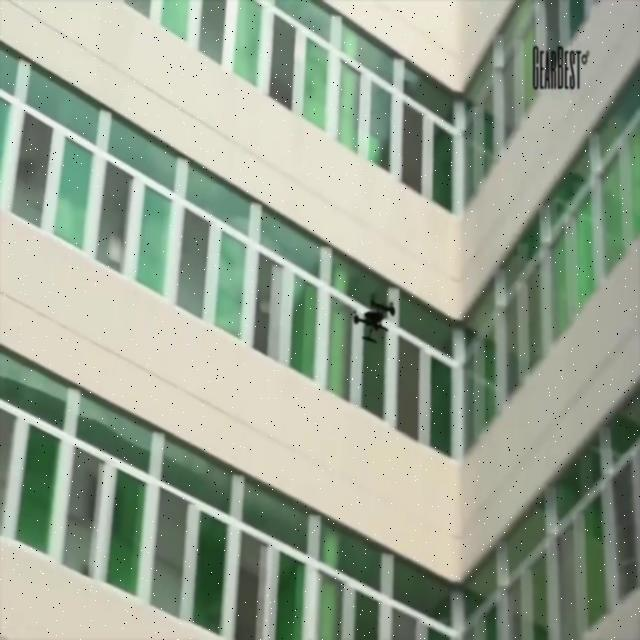UAV: (352, 293, 395, 343)
